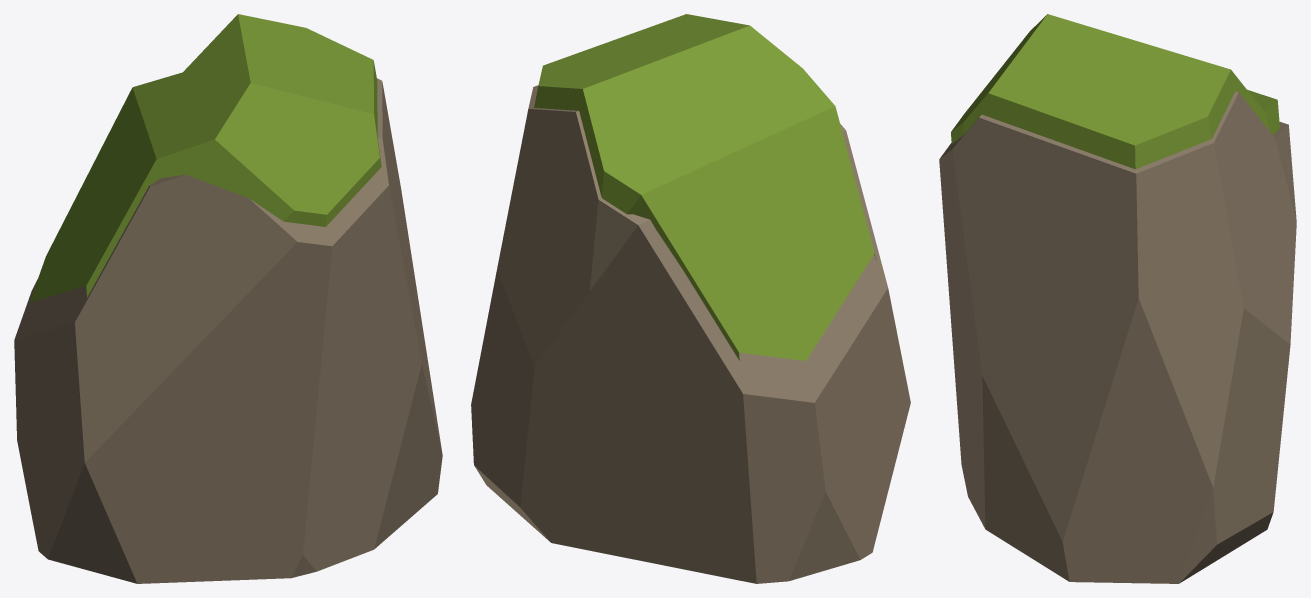
File: musty_rock1.glb
3 views of the same model, side by side, from view 1: azimuth 30°, elevation 25°; view 2: azimuth 150°, elevation 25°; view 3: azimuth 270°, elevation 25° (orthographic). The views are drawn at different scales.
Parts seen in each view (by area): view 1: Stone_5_moss_brown; view 2: Stone_5_moss_brown; view 3: Stone_5_moss_brown.
Boxes of the visible parts, x1,y1,x2,y2 form: Stone_5_moss_brown: [14, 14, 442, 583]; Stone_5_moss_brown: [471, 14, 910, 583]; Stone_5_moss_brown: [939, 14, 1296, 583].
Bounding box in the file's own units: 0.8372 × 1.02 × 0.7029.
Materials: 1 (1 with a texture image).
